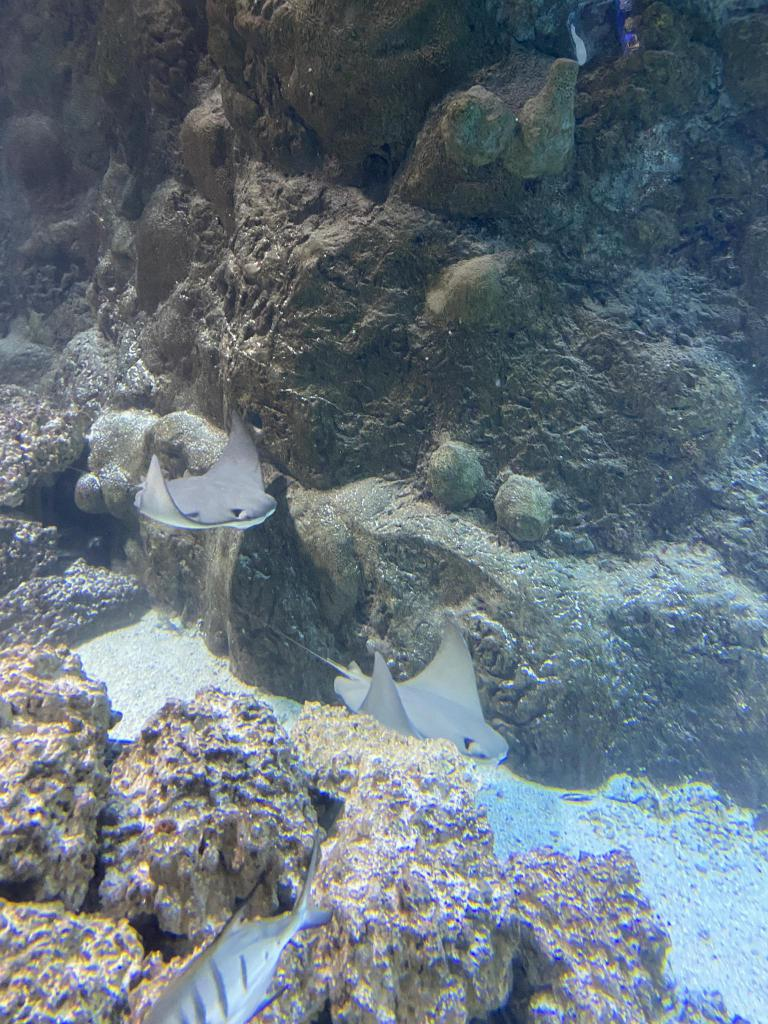fish: (141, 825, 332, 1023)
stingray: (333, 610, 509, 770), (134, 410, 276, 528)
